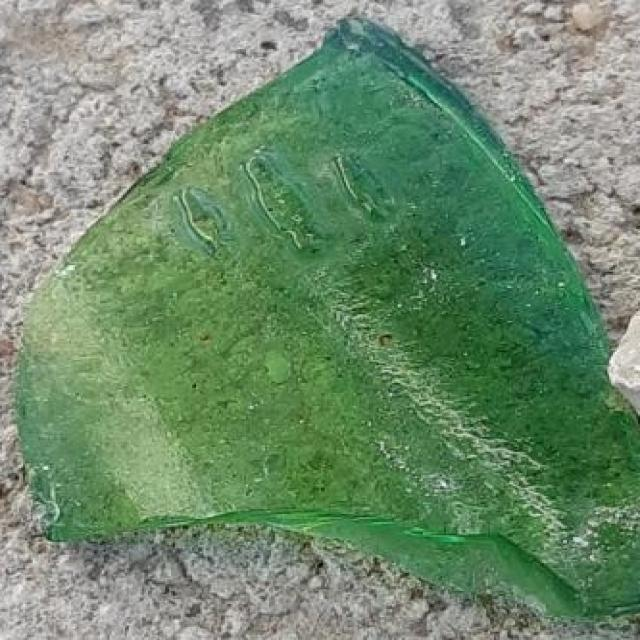Dry: (196, 110, 562, 526), (110, 164, 242, 534), (501, 323, 640, 606), (7, 235, 133, 527), (267, 13, 438, 145), (356, 495, 496, 592)
